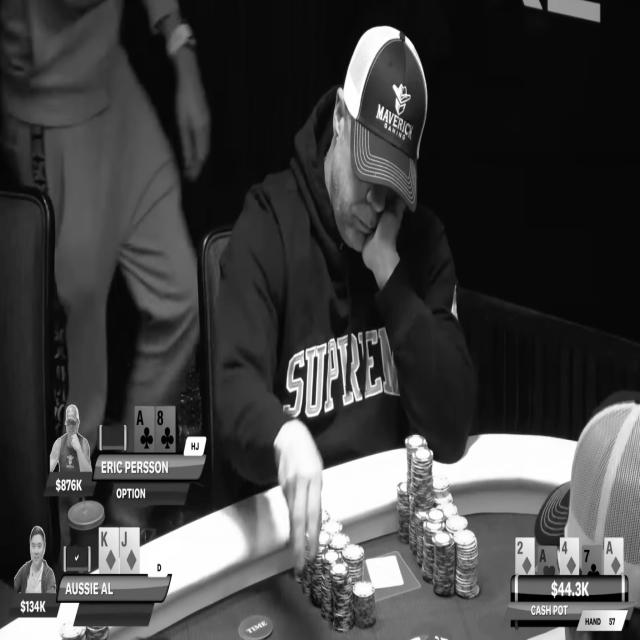2D: (515, 538, 535, 576)
4D: (560, 538, 579, 576)
7C: (582, 546, 602, 576)
8C: (154, 406, 176, 454)
AC: (134, 406, 154, 452)
AD: (604, 537, 624, 576)
AH: (537, 546, 557, 576)
JD: (120, 527, 139, 575)
KD: (98, 528, 118, 572)
